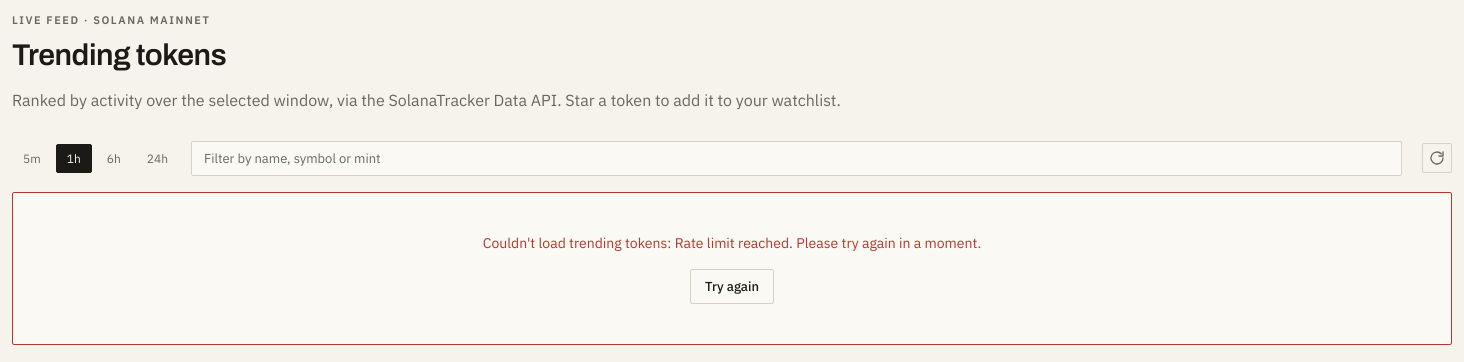
Trending page › shows the server's error with a working retry
Expected: the message shows "Rate limit reached", x1=675 y1=234 x2=981 y2=252
Click the button "Try again": x=732, y=286 x1=690 y1=268 x2=774 y2=304
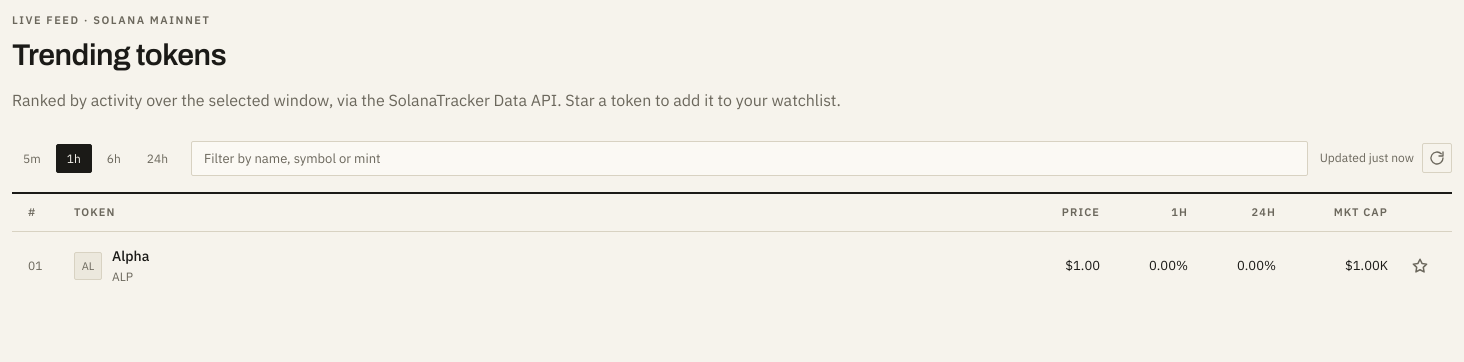
Now the text "Alpha" is shown, box x1=112 y1=246 x2=149 y2=268
